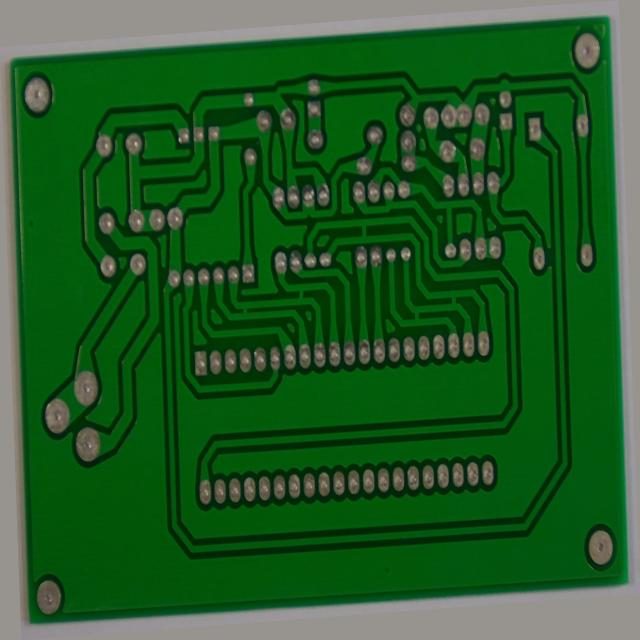short: (356, 209, 380, 243), (409, 306, 430, 336), (291, 275, 311, 303), (449, 294, 467, 323), (233, 290, 252, 314)
